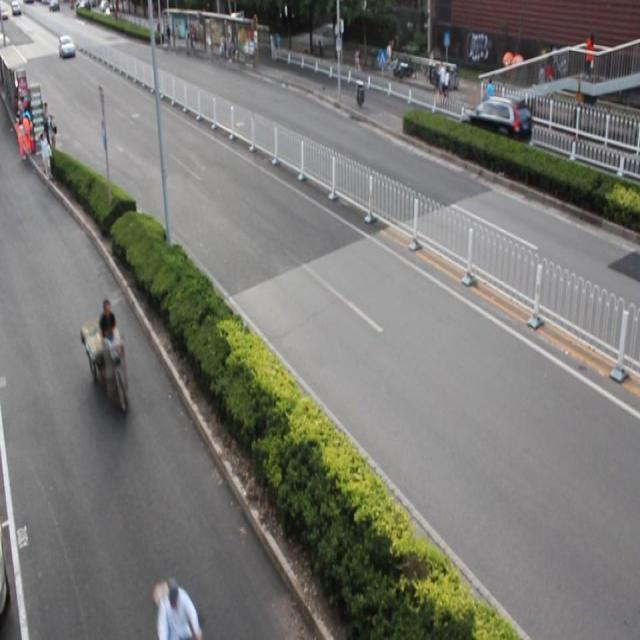car: (459, 94, 531, 158)
